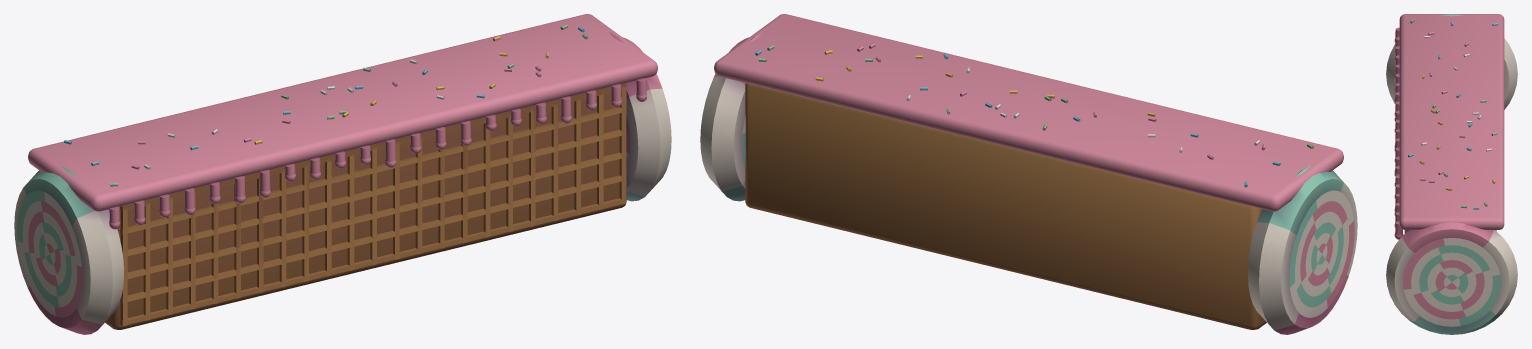
The model's file is counter_candy.glb.
The picture shows the model from 3 angles, left to right: view 1: azimuth 30°, elevation 25°; view 2: azimuth 150°, elevation 25°; view 3: azimuth 270°, elevation 25°; orthographic projection. The views are drawn at different scales.
Visible parts, largest first — view 1: counter_candy; view 2: counter_candy; view 3: counter_candy.
Part boxes in pixels (x1,y1,x2,y2): counter_candy: [14, 14, 671, 334]; counter_candy: [700, 14, 1357, 334]; counter_candy: [1386, 14, 1517, 334].
Bounding box in the file's own units: 4.56 × 1.19 × 1.18.
